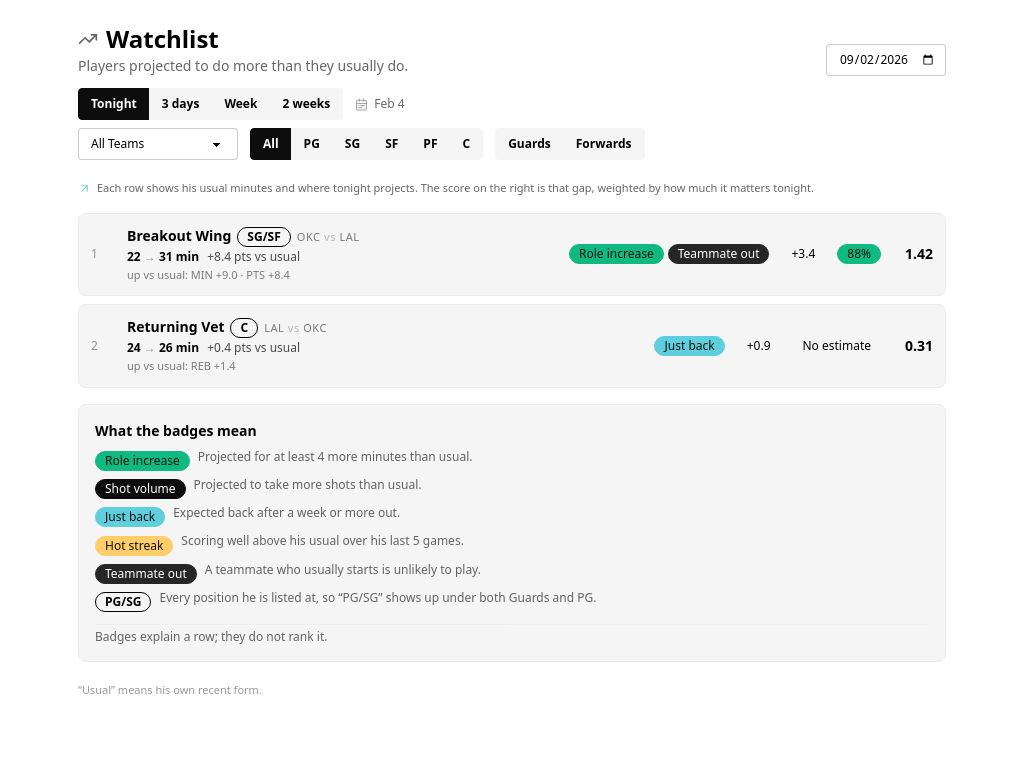
it: WatchlistPage team filter › filters the visible rows client-side without refetching
The image size is (1024, 768).
Expected: the text "Breakout Wing" is shown, [127, 226, 231, 246]
Select "LAL" in the dropdown named "Filter by team" at (158, 144), box [78, 128, 238, 160]
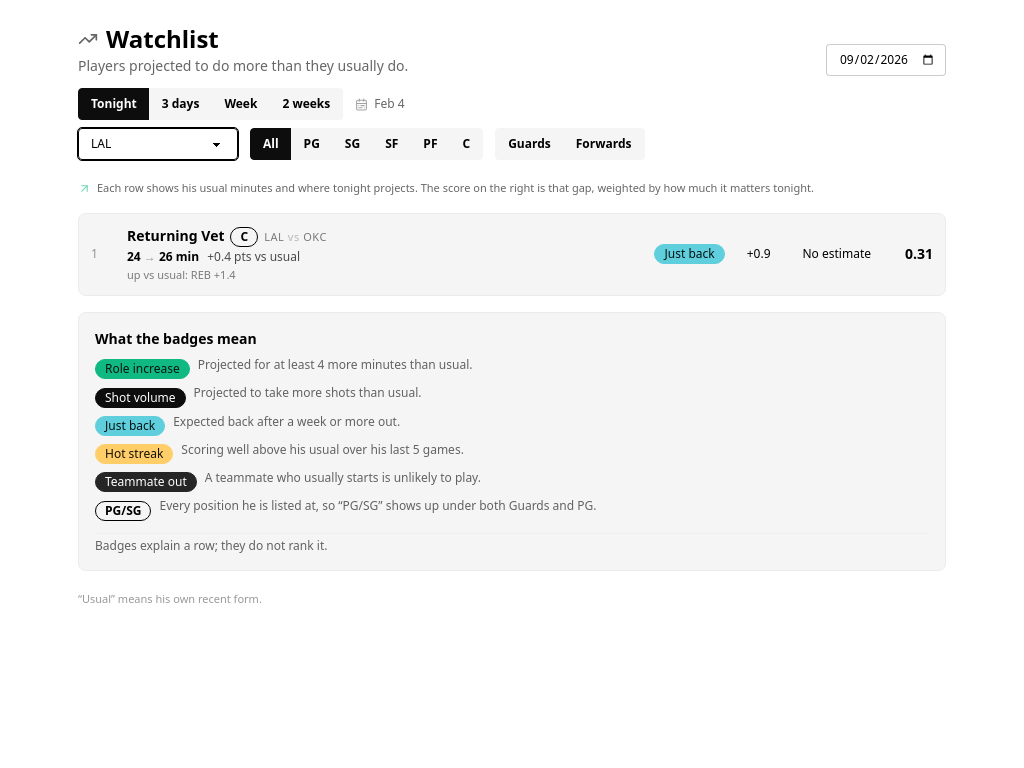
Expected: the text "Returning Vet" is shown, [127, 226, 224, 246]
Expected: the heading "Breakout Wing" is gone
